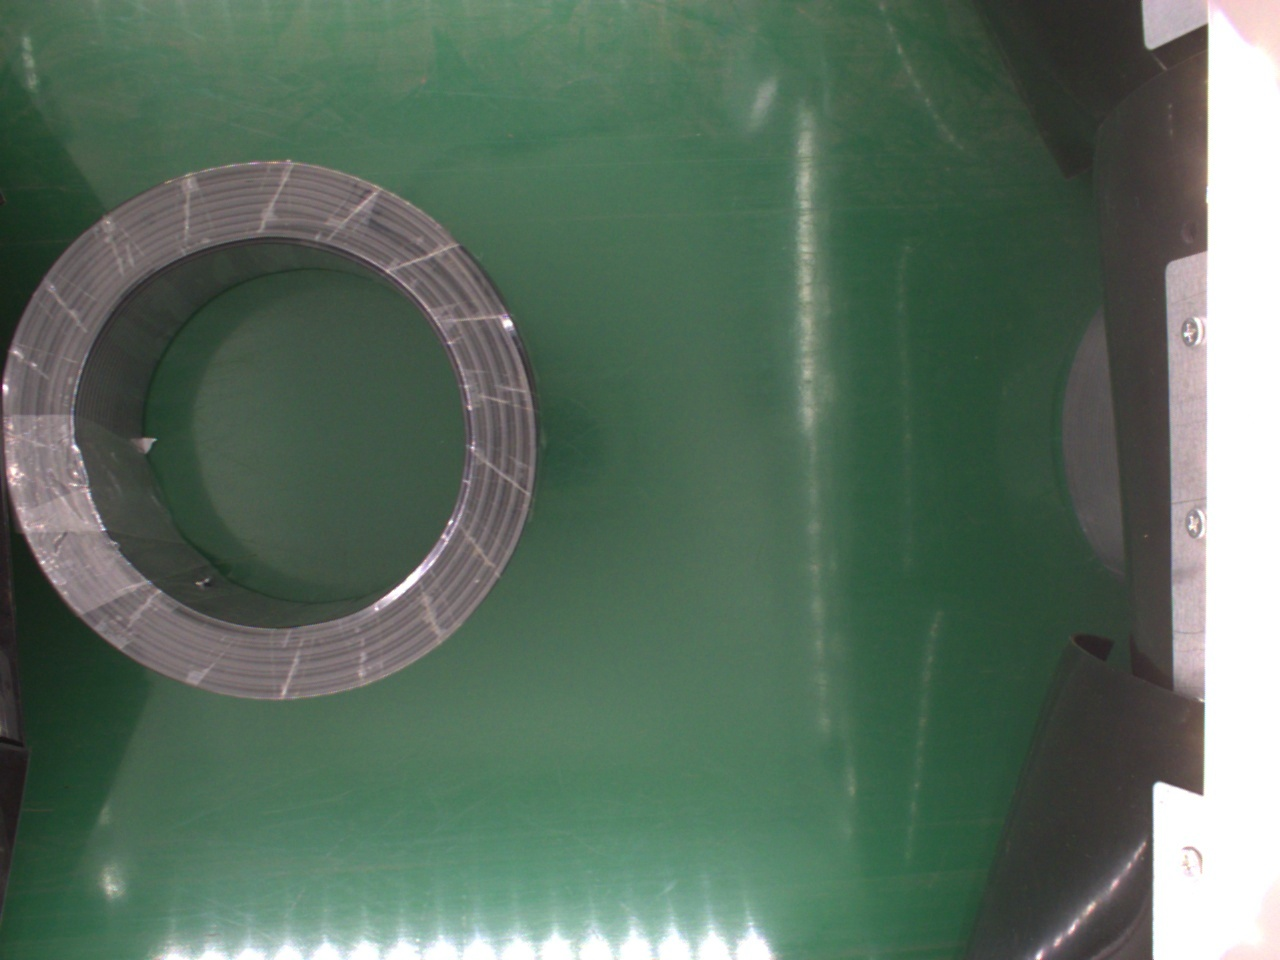black: (7, 156, 546, 704)
